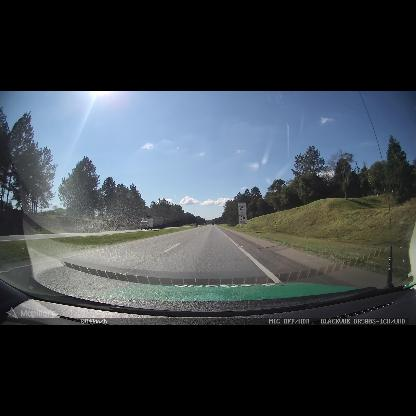I-SA: (238, 203, 246, 206)
R-19: (238, 206, 247, 224)
